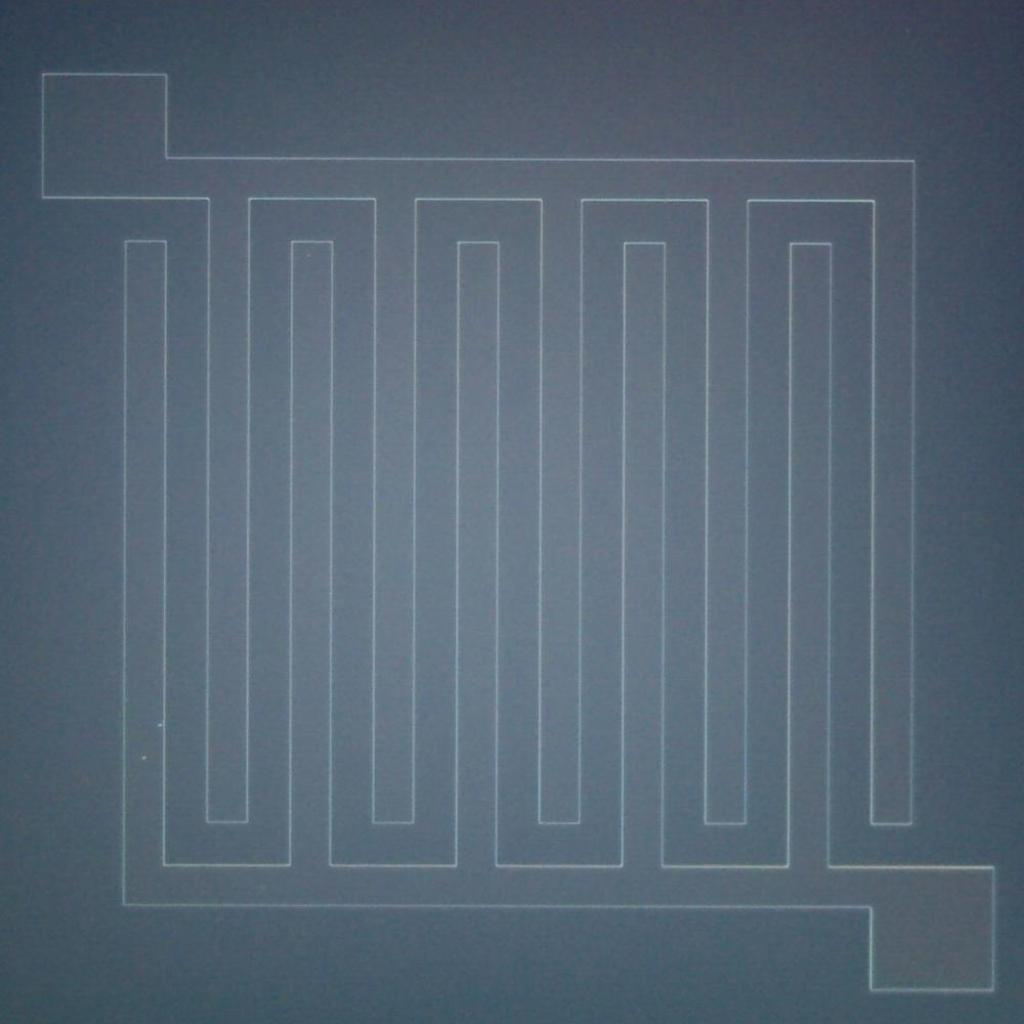dot: (142, 756, 147, 760), (158, 724, 162, 728)
